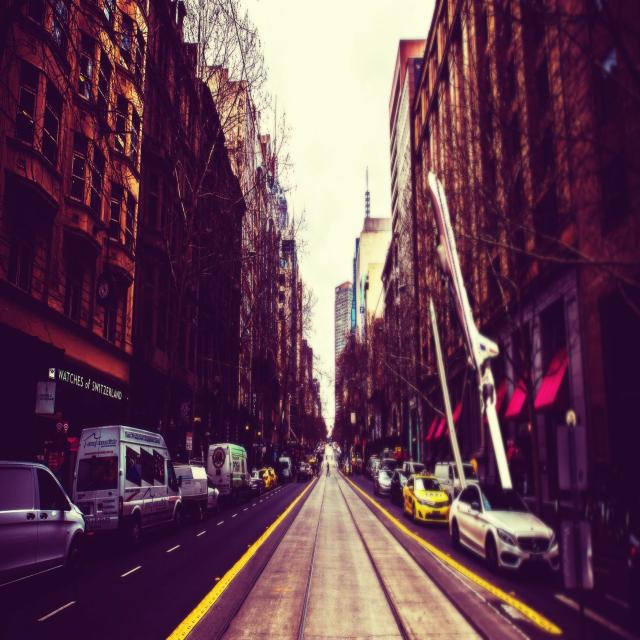airplane: (426, 169, 512, 491)
